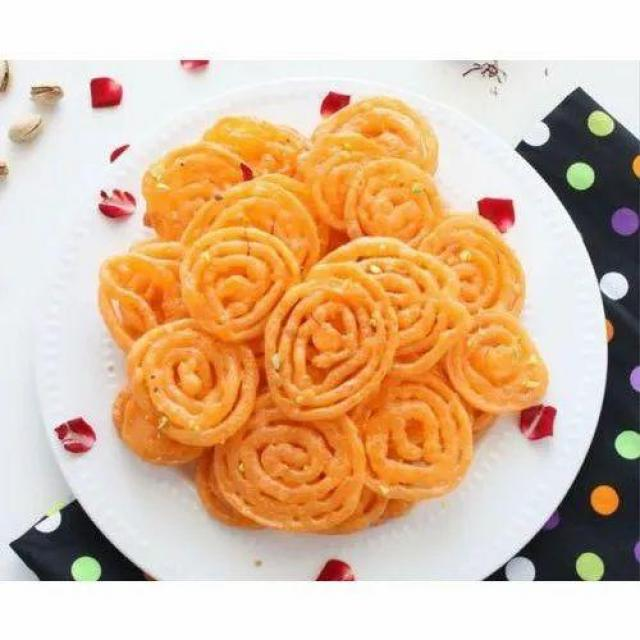jalebi: (95, 100, 543, 500)
